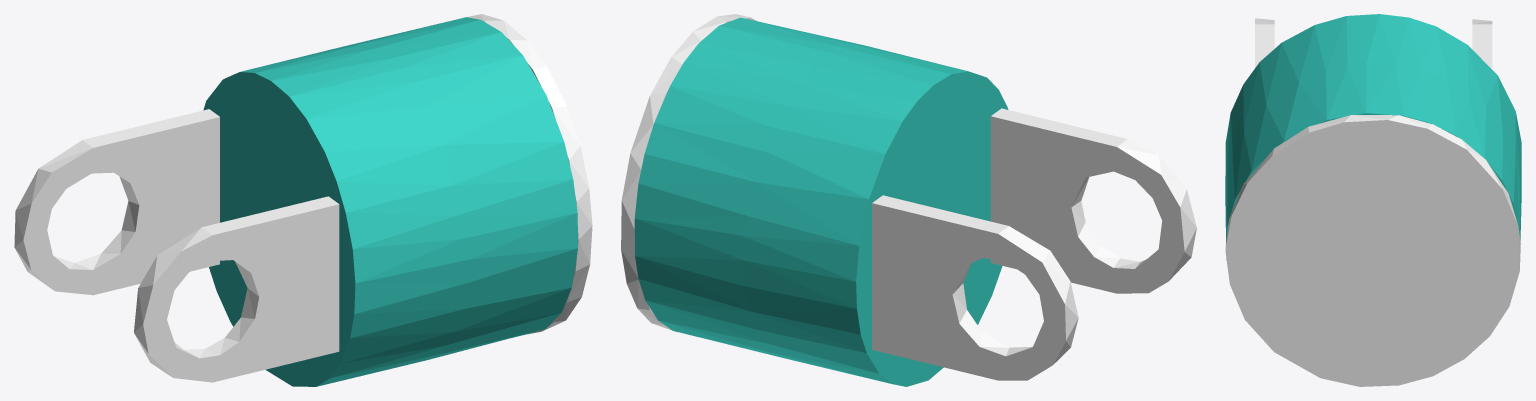
File: arm_upper_dexter_collision.obj
3 views of the same model, side by side, from view 1: azimuth 30°, elevation 25°; view 2: azimuth 150°, elevation 25°; view 3: azimuth 270°, elevation 25° (orthographic). The views are drawn at different scales.
Parts seen in each view (by area): view 1: Body6, Body8, Body7, Body1; view 2: Body6, Body7, Body8, Body1; view 3: Body1, Body6, Body7, Body8.
Part boxes in pixels (x1=…): Body6: x1=203, y1=17, x2=577, y2=386; Body8: x1=134, y1=196, x2=339, y2=382; Body7: x1=14, y1=109, x2=219, y2=295; Body1: x1=464, y1=14, x2=592, y2=334; Body6: x1=634, y1=17, x2=1008, y2=386; Body7: x1=872, y1=195, x2=1078, y2=380; Body8: x1=990, y1=108, x2=1196, y2=293; Body1: x1=621, y1=14, x2=756, y2=332; Body1: x1=1225, y1=115, x2=1520, y2=386; Body6: x1=1225, y1=14, x2=1521, y2=259; Body7: x1=1472, y1=19, x2=1492, y2=69; Body8: x1=1255, y1=18, x2=1274, y2=67.
Size of the model in its own units: 18.48 by 11.98 by 11.98.
